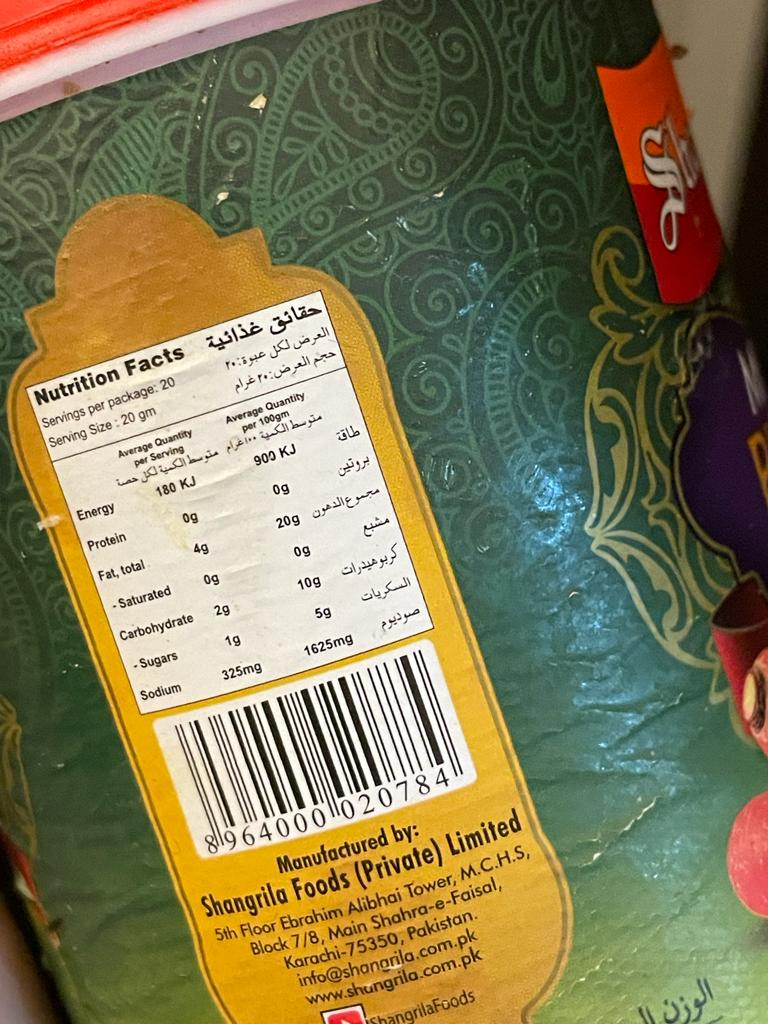table: (26, 282, 430, 725)
